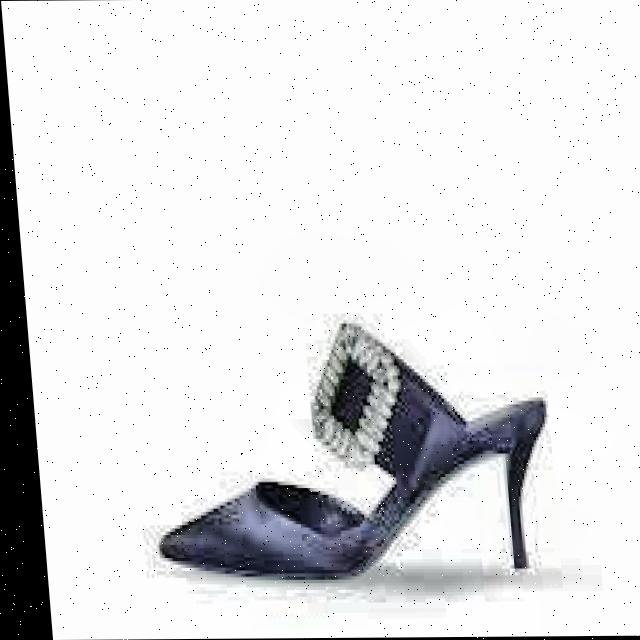shoes: (103, 309, 578, 614)
